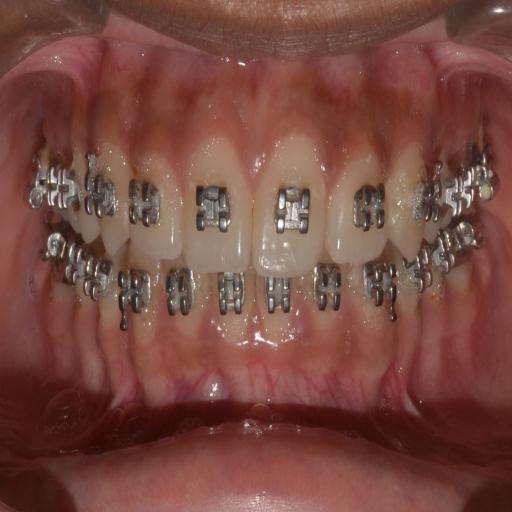correct_brace: (268, 174, 314, 244), (189, 171, 234, 241), (350, 177, 386, 240), (84, 166, 117, 229), (414, 165, 444, 233), (130, 170, 162, 233)
incorrect_brace: (330, 146, 388, 277), (125, 153, 187, 266)
